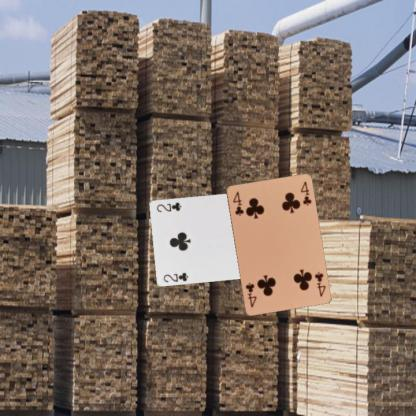2c: (161, 270, 190, 284)
4c: (312, 269, 327, 298), (230, 189, 245, 217)
